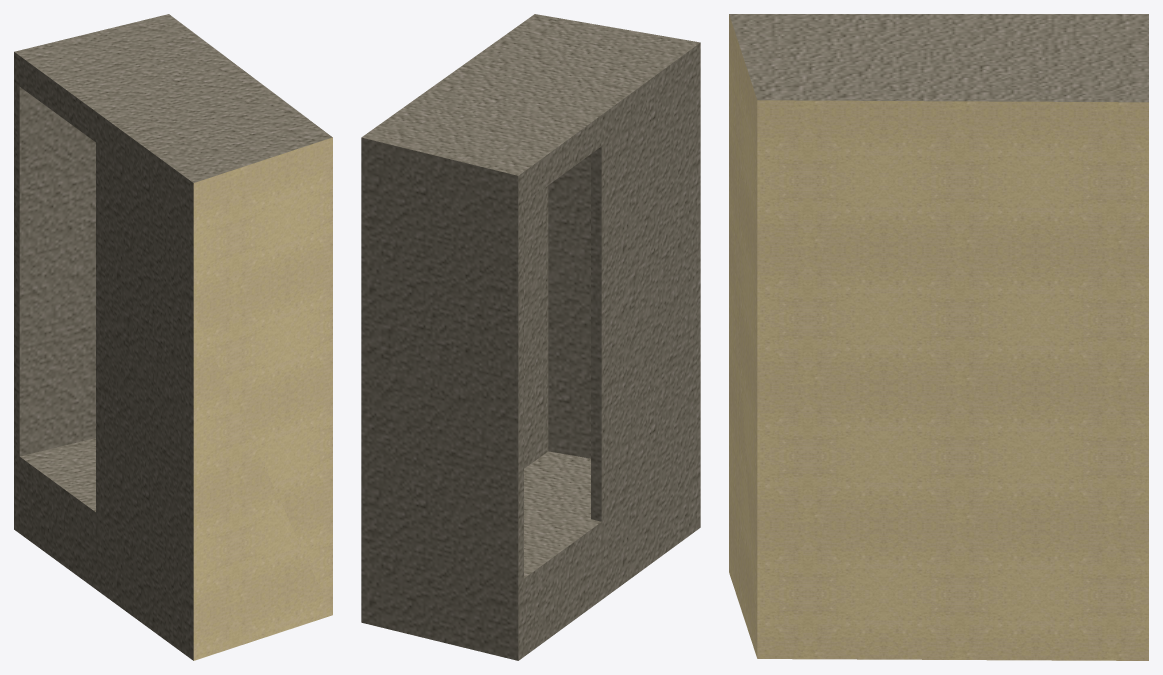
File: concierge_rdc.obj
The picture shows the model from 3 angles, left to right: view 1: azimuth 30°, elevation 25°; view 2: azimuth 150°, elevation 25°; view 3: azimuth 270°, elevation 25°; orthographic projection. The views are drawn at different scales.
Parts seen in each view (by area): view 1: Concierge1_RDC_Cube.023; view 2: Concierge1_RDC_Cube.023; view 3: Concierge1_RDC_Cube.023.
Part boxes in pixels (box(x1,y1,x2,y2)): Concierge1_RDC_Cube.023: box(14, 14, 332, 660); Concierge1_RDC_Cube.023: box(361, 14, 700, 660); Concierge1_RDC_Cube.023: box(729, 14, 1148, 660).
Size of the model in its own units: 1.05 by 3.1 by 2.11.
